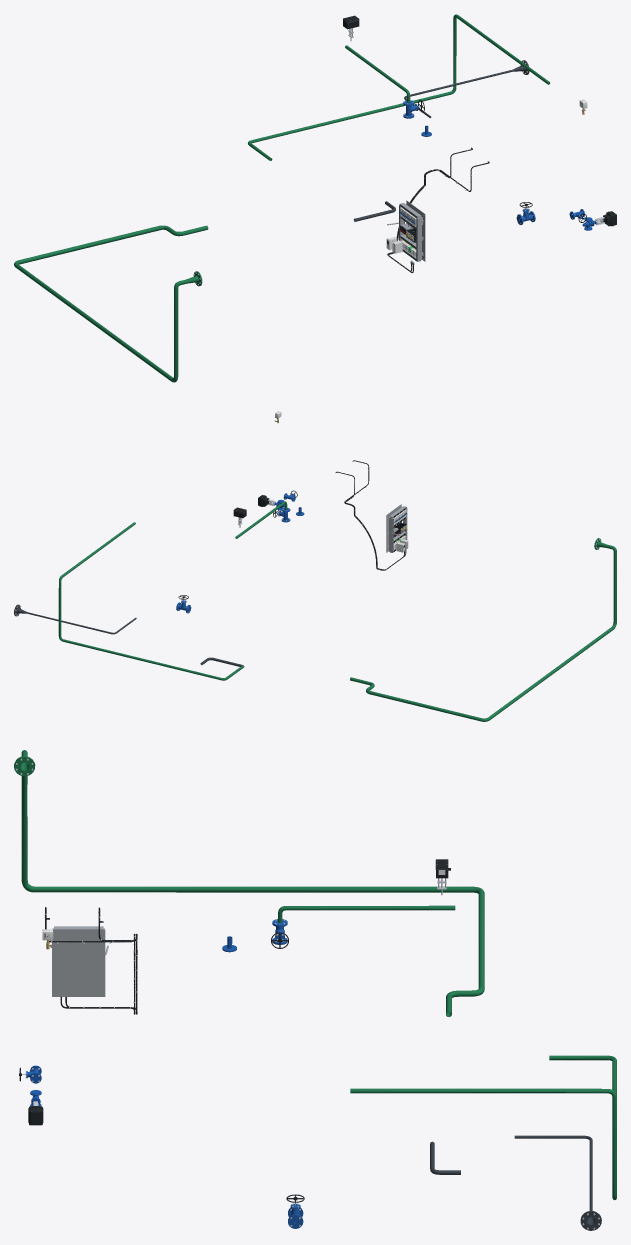
3 renders of one model, top to bottom at view 1: azimuth 30°, elevation 25°; view 2: azimuth 150°, elevation 25°; view 3: azimuth 270°, elevation 25°, orthographic. The views are drawn at different scales.
Parts seen in each view (by area): view 1: deaerator_feed / green, to_economizer / green, cabinet_interior / cabinet_interior_0.npz; view 2: deaerator_feed / green, to_economizer / green, cabinet_interior / cabinet_interior_0.npz; view 3: deaerator_feed / green, cabinet_interior / cabinet_interior_0.npz, to_economizer / green, tds_to_fv / dark, direct_inlet / green.
Part boxes in pixels (x1,y1,x2,y2): deaerator_feed / green: (14,225,208,382); to_economizer / green: (248,14,549,160); cabinet_interior / cabinet_interior_0.npz: (387,200,425,261); deaerator_feed / green: (350,538,616,721); to_economizer / green: (58,522,244,680); cabinet_interior / cabinet_interior_0.npz: (386,504,407,552); deaerator_feed / green: (14,750,484,1016); cabinet_interior / cabinet_interior_0.npz: (52,926,108,996); to_economizer / green: (350,1055,616,1200); tds_to_fv / dark: (514,1135,601,1230); direct_inlet / green: (278,906,428,922).
Bounding box in the file's own units: 8.21 × 2.85 × 5.51.
